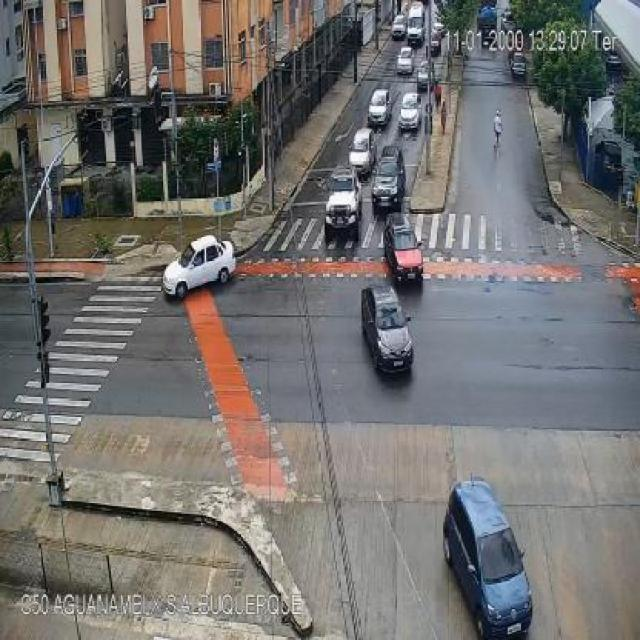Car: (444, 476, 535, 640), (359, 284, 415, 376), (161, 235, 236, 301), (382, 214, 426, 282), (323, 166, 363, 239), (370, 145, 407, 213), (593, 140, 626, 187), (346, 128, 376, 176), (398, 92, 421, 130), (368, 89, 390, 126), (396, 47, 414, 75), (510, 51, 527, 79), (418, 60, 433, 89), (391, 14, 407, 41), (500, 11, 518, 33), (430, 28, 442, 55), (606, 52, 622, 72), (433, 21, 445, 38)
Van: (405, 0, 426, 45)
